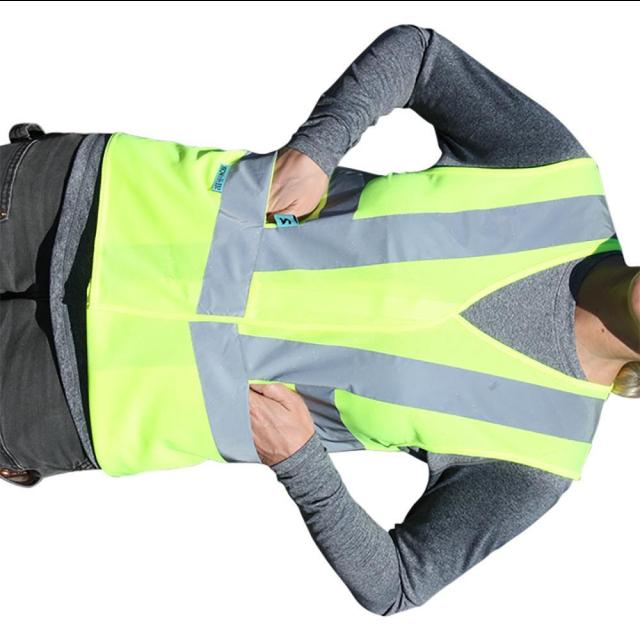jacket: (72, 122, 622, 500)
